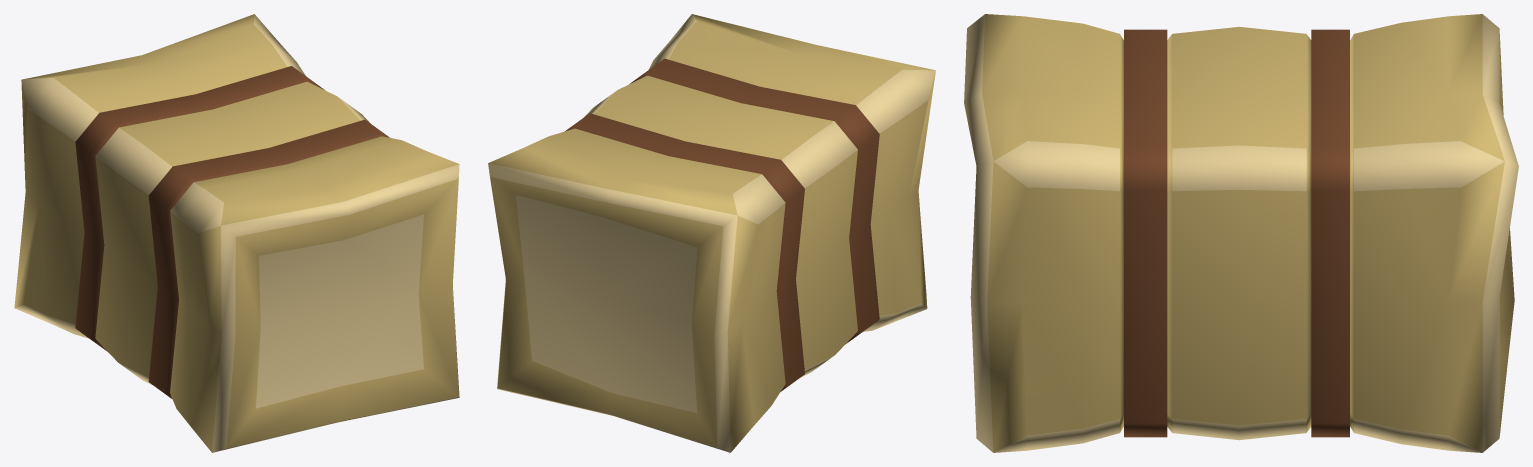
The model's file is HaleBale01.fbx.
3 renders of one model, left to right at view 1: azimuth 30°, elevation 25°; view 2: azimuth 150°, elevation 25°; view 3: azimuth 270°, elevation 25°, orthographic. The views are drawn at different scales.
Visible parts, largest first — view 1: HayBale01; view 2: HayBale01; view 3: HayBale01.
Boxes of the visible parts, x1,y1,x2,y2 form: HayBale01: [14, 14, 459, 452]; HayBale01: [488, 14, 935, 452]; HayBale01: [964, 14, 1518, 452].
Bounding box in the file's own units: 14.27 × 13.19 × 21.42.
